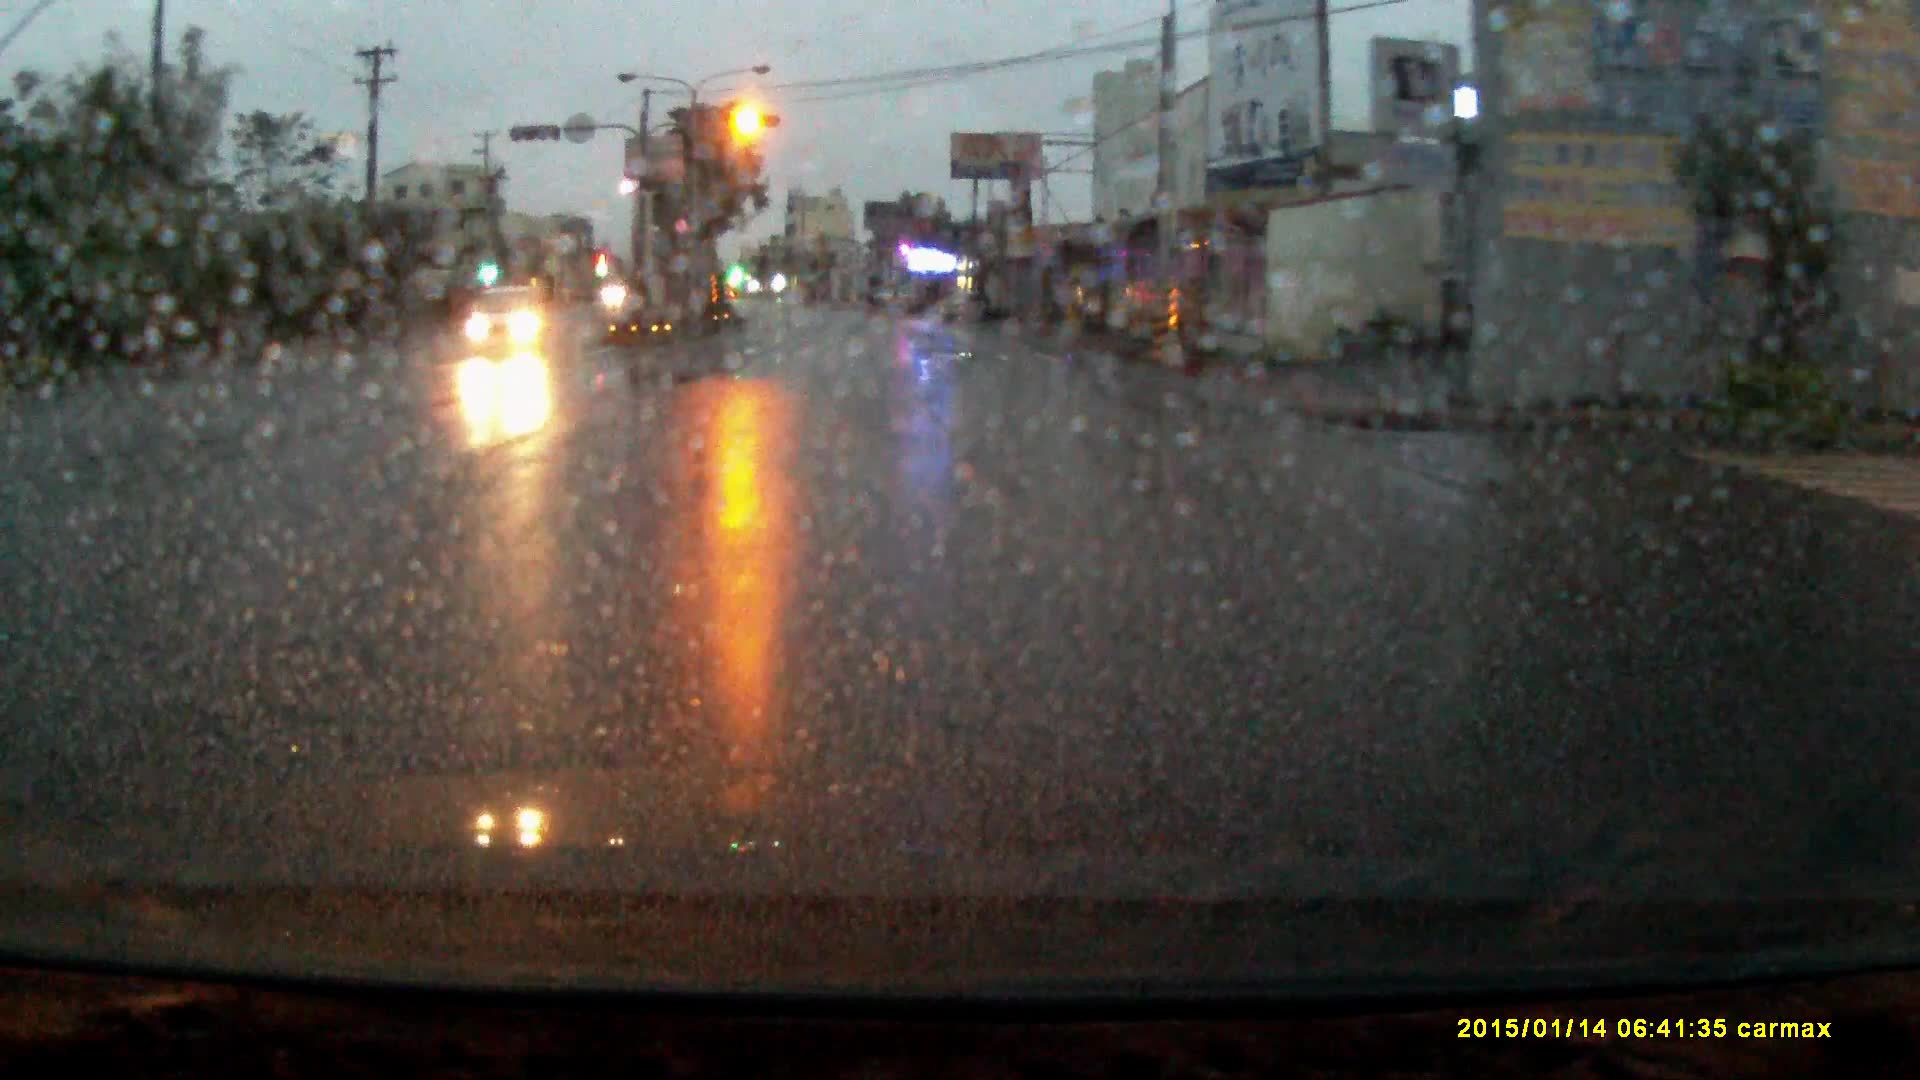vehicle: (464, 287, 555, 363)
